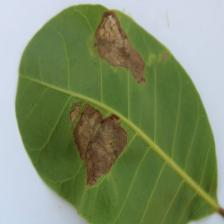leaf miner: (69, 93, 135, 194), (86, 9, 154, 90)
